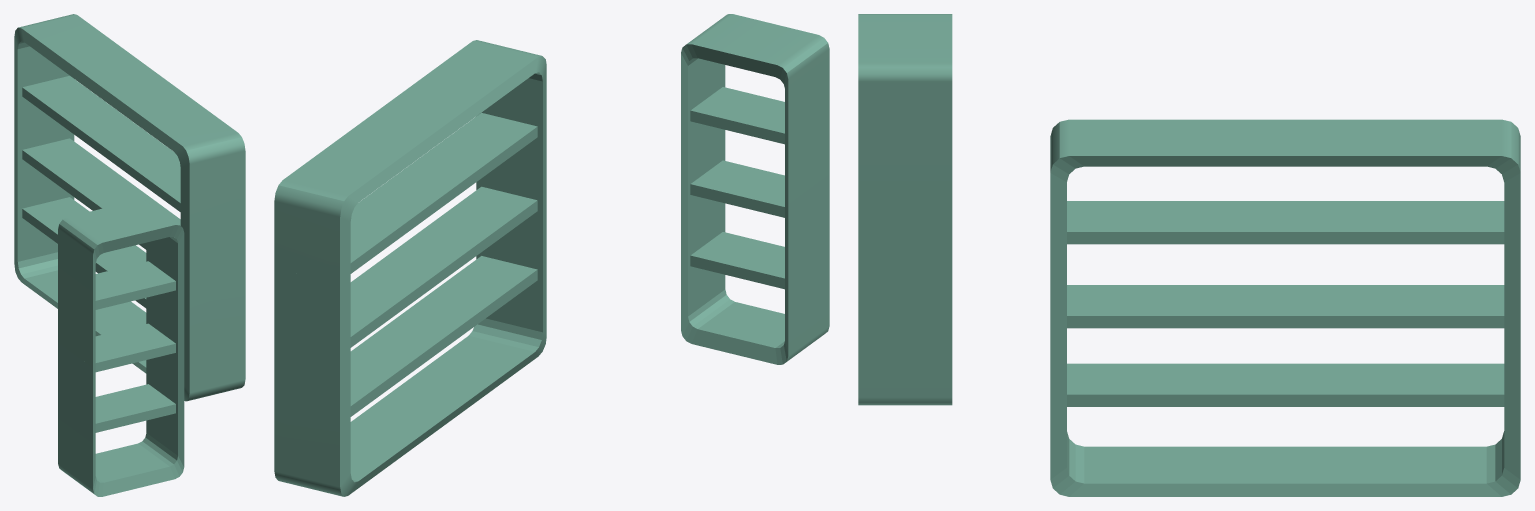
Rendered from Estanterias.fbx.
3 views of the same model, side by side, from view 1: azimuth 30°, elevation 25°; view 2: azimuth 150°, elevation 25°; view 3: azimuth 270°, elevation 25° (orthographic). The views are drawn at different scales.
Visible parts, largest first — view 1: pCube40, pCube47, pCube67, pCube66, pCube71, pCube70, pCube69, pCube68; view 2: pCube40, pCube47, pCube66, pCube68, pCube67, pCube71, pCube69, pCube70; view 3: pCube40, pCube47, pCube67, pCube66, pCube68.
Part boxes in pixels (x1,y1,x2,y2): pCube40: (14, 14, 245, 401); pCube47: (58, 199, 184, 496); pCube67: (22, 75, 180, 211); pCube66: (22, 138, 180, 249); pCube71: (95, 384, 175, 432); pCube70: (95, 261, 175, 309); pCube69: (95, 323, 175, 372); pCube68: (22, 197, 146, 308); pCube40: (274, 40, 546, 496); pCube47: (681, 14, 829, 364); pCube66: (350, 186, 537, 347); pCube68: (350, 256, 537, 416); pCube67: (350, 113, 537, 273); pCube71: (690, 232, 784, 289); pCube69: (690, 160, 784, 217); pCube70: (690, 87, 784, 144); pCube40: (1050, 119, 1520, 496); pCube47: (858, 14, 952, 405); pCube67: (1067, 201, 1504, 244); pCube66: (1067, 285, 1504, 328); pCube68: (1067, 363, 1504, 406).
Bounding box in the file's own units: 9.38 × 10.17 × 17.91.
